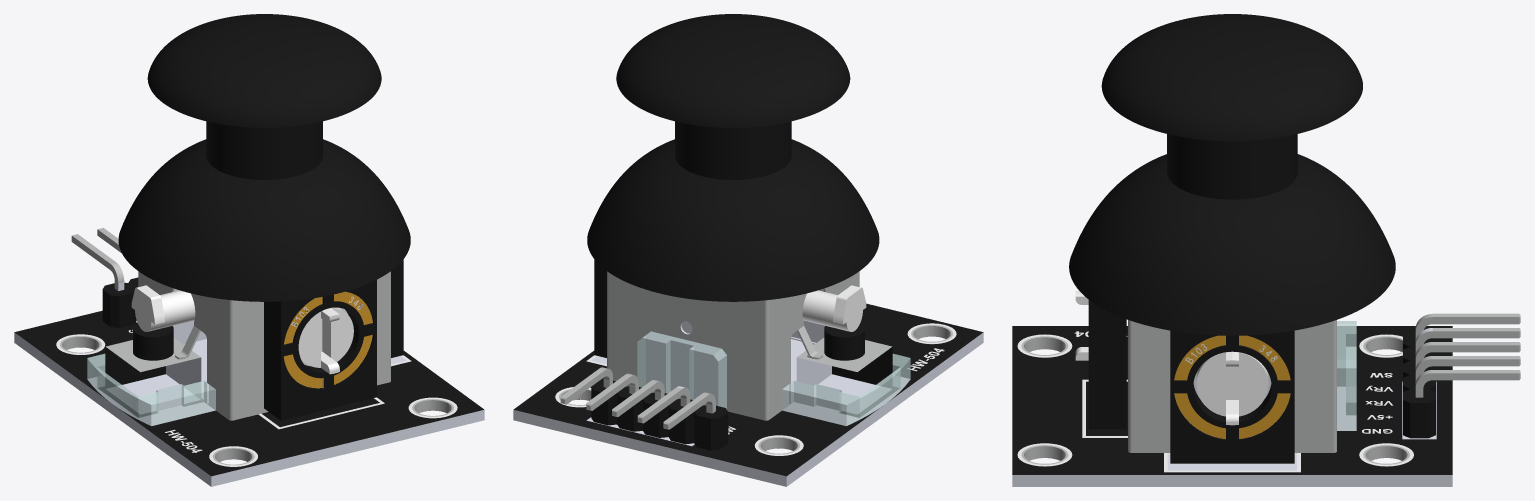
The model's file is joystick.glb.
3 renders of one model, left to right at view 1: azimuth 30°, elevation 25°; view 2: azimuth 150°, elevation 25°; view 3: azimuth 270°, elevation 25°, orthographic. The views are drawn at different scales.
Parts seen in each view (by area): view 1: PS_HW504_A (×8); view 2: PS_HW504_A (×7); view 3: PS_HW504_A (×7).
Boxes of the visible parts, <box> form: PS_HW504_A (×8): <box>14,14,484,486</box>; PS_HW504_A (×7): <box>513,14,983,486</box>; PS_HW504_A (×7): <box>1012,14,1520,486</box>.
Bounding box in the file's own units: 0.0275 × 0.0333 × 0.0389.
